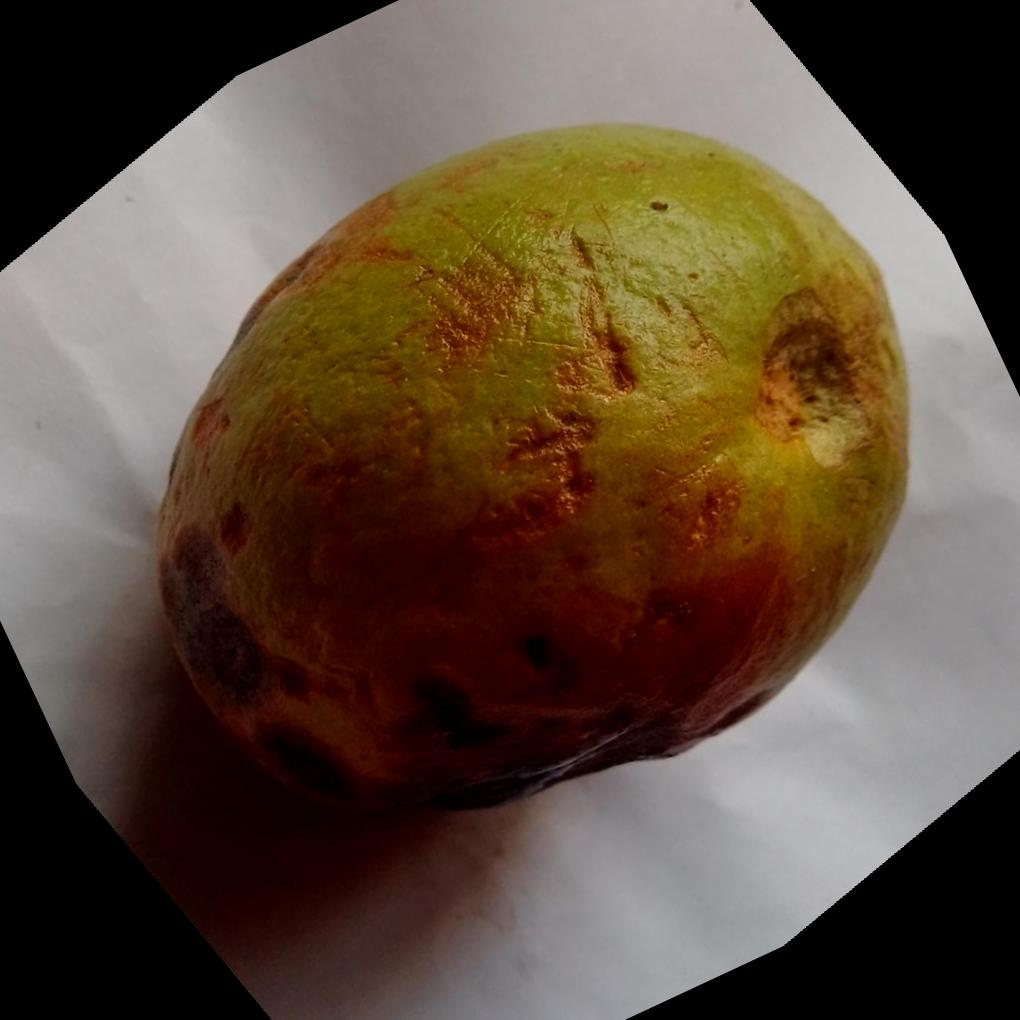FreshOrange: (150, 120, 909, 818)
